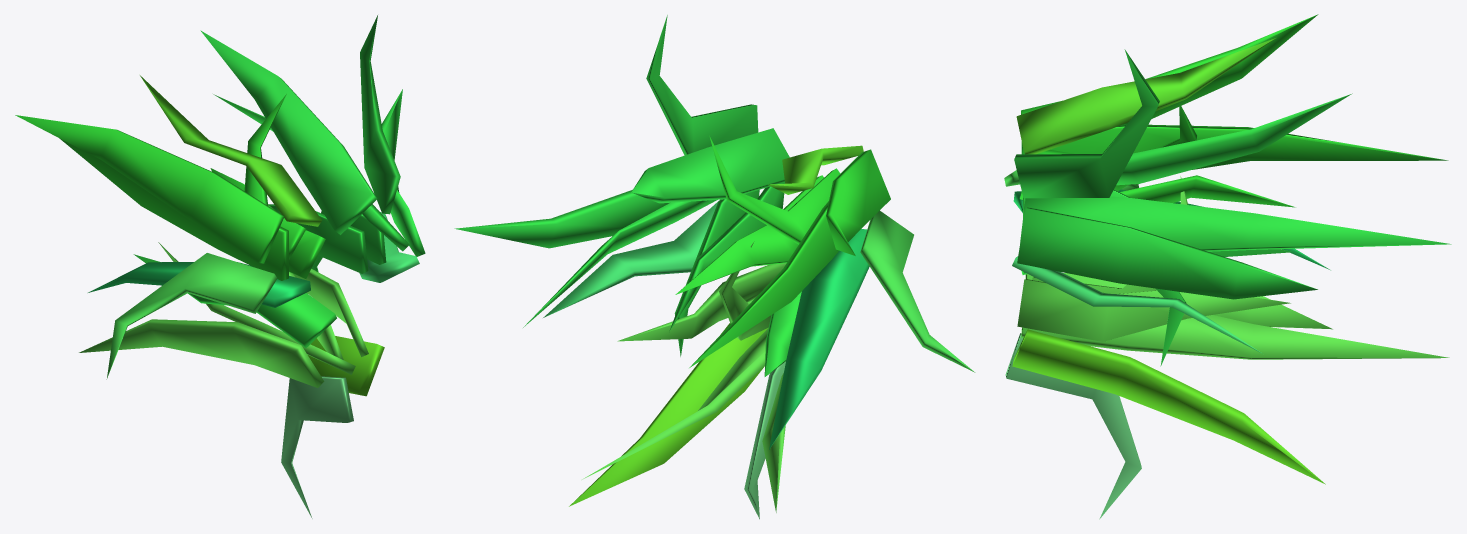
Rendered from green_grass (1).fbx.
3 renders of one model, left to right at view 1: azimuth 30°, elevation 25°; view 2: azimuth 150°, elevation 25°; view 3: azimuth 270°, elevation 25°, orthographic. The views are drawn at different scales.
Visible parts, largest first — view 1: Cube.001; view 2: Cube.001; view 3: Cube.001.
Part boxes in pixels (left/top/right/bottom): Cube.001: left=15, top=15, right=425, bottom=518; Cube.001: left=454, top=15, right=975, bottom=519; Cube.001: left=1004, top=14, right=1451, bottom=519.
Size of the model in its own units: 139 by 159 by 126.
